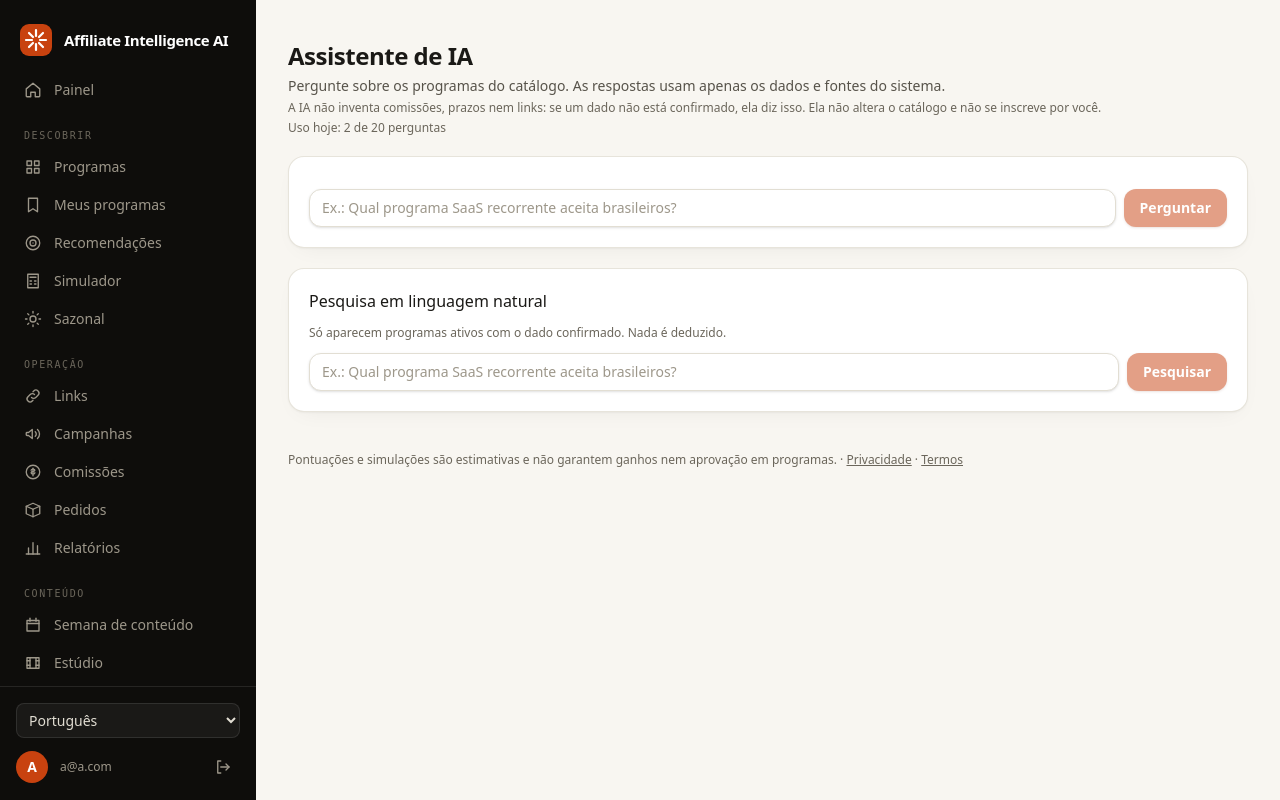
assistente de IA › mostra a resposta com selo, programas e fonte oficial consultados
Check: the text "Uso hoje: 2 de 20 perguntas" is shown, box top-left (288, 119), bottom-right (446, 136)
Type "Qual a comissão da Zeta?" into the field named "Assistente de IA" at coordinates (712, 208), box top-left (309, 189), bottom-right (1116, 227)
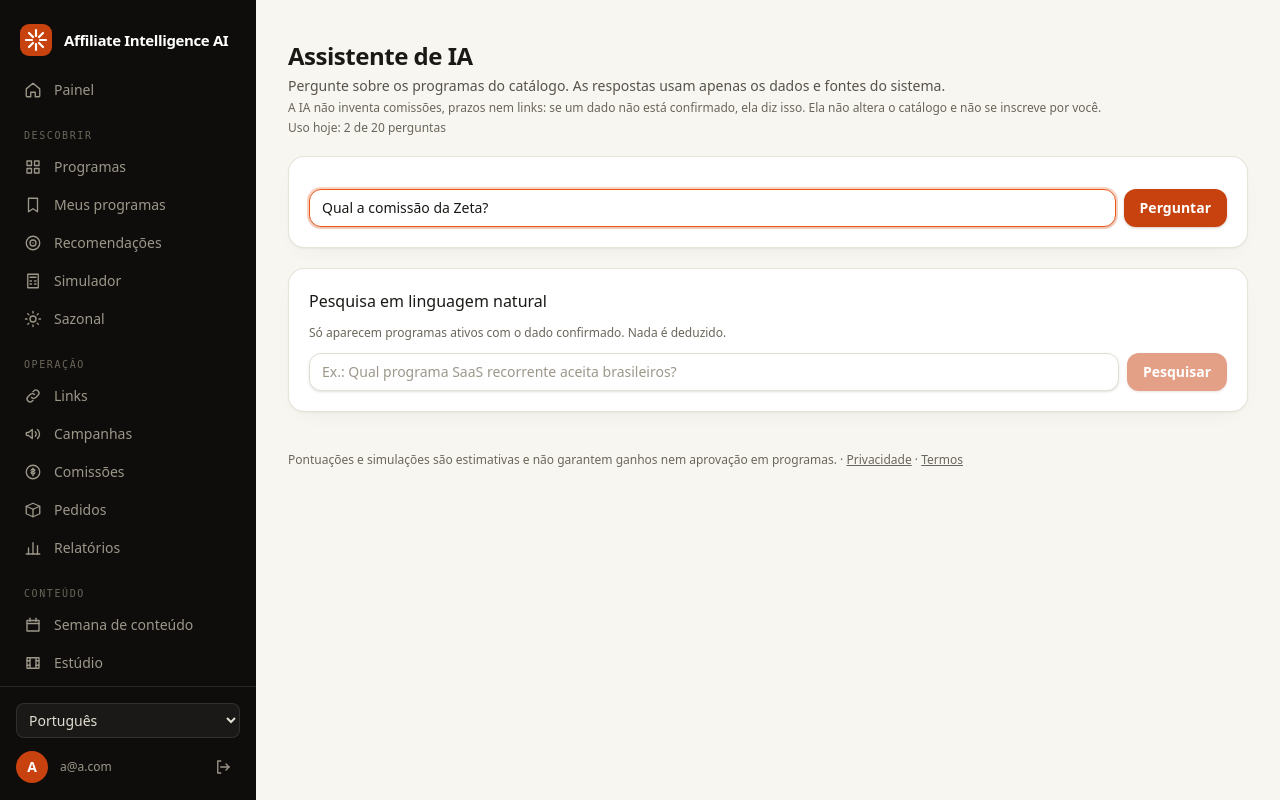
Click the button "Perguntar" at coordinates (1175, 208), box top-left (1124, 189), bottom-right (1227, 227)
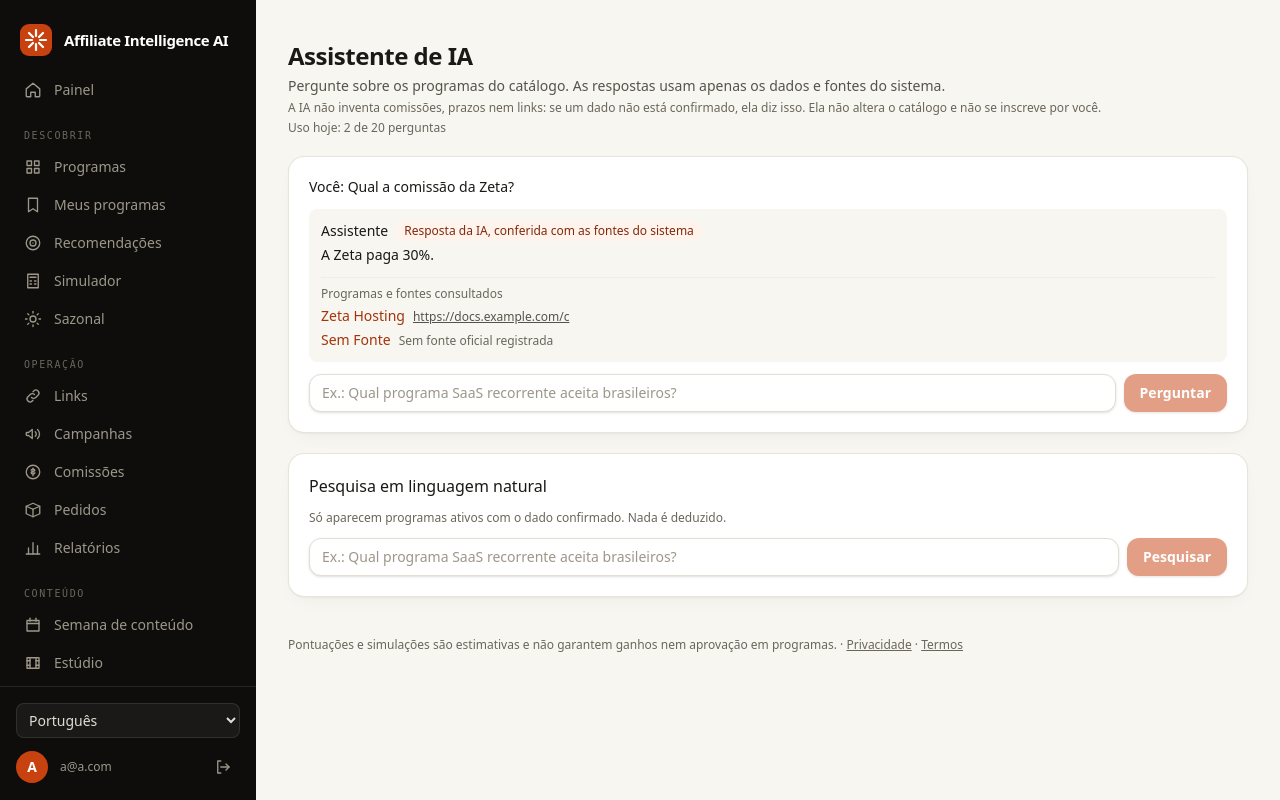
Check: the text "A Zeta paga 30%." is shown, box top-left (321, 245), bottom-right (434, 264)
Check: the text "Resposta da IA, conferida com as fontes do sistema" is shown, box top-left (396, 221), bottom-right (702, 241)
Check: the text "Sem fonte oficial registrada" is shown, box top-left (399, 332), bottom-right (553, 349)
